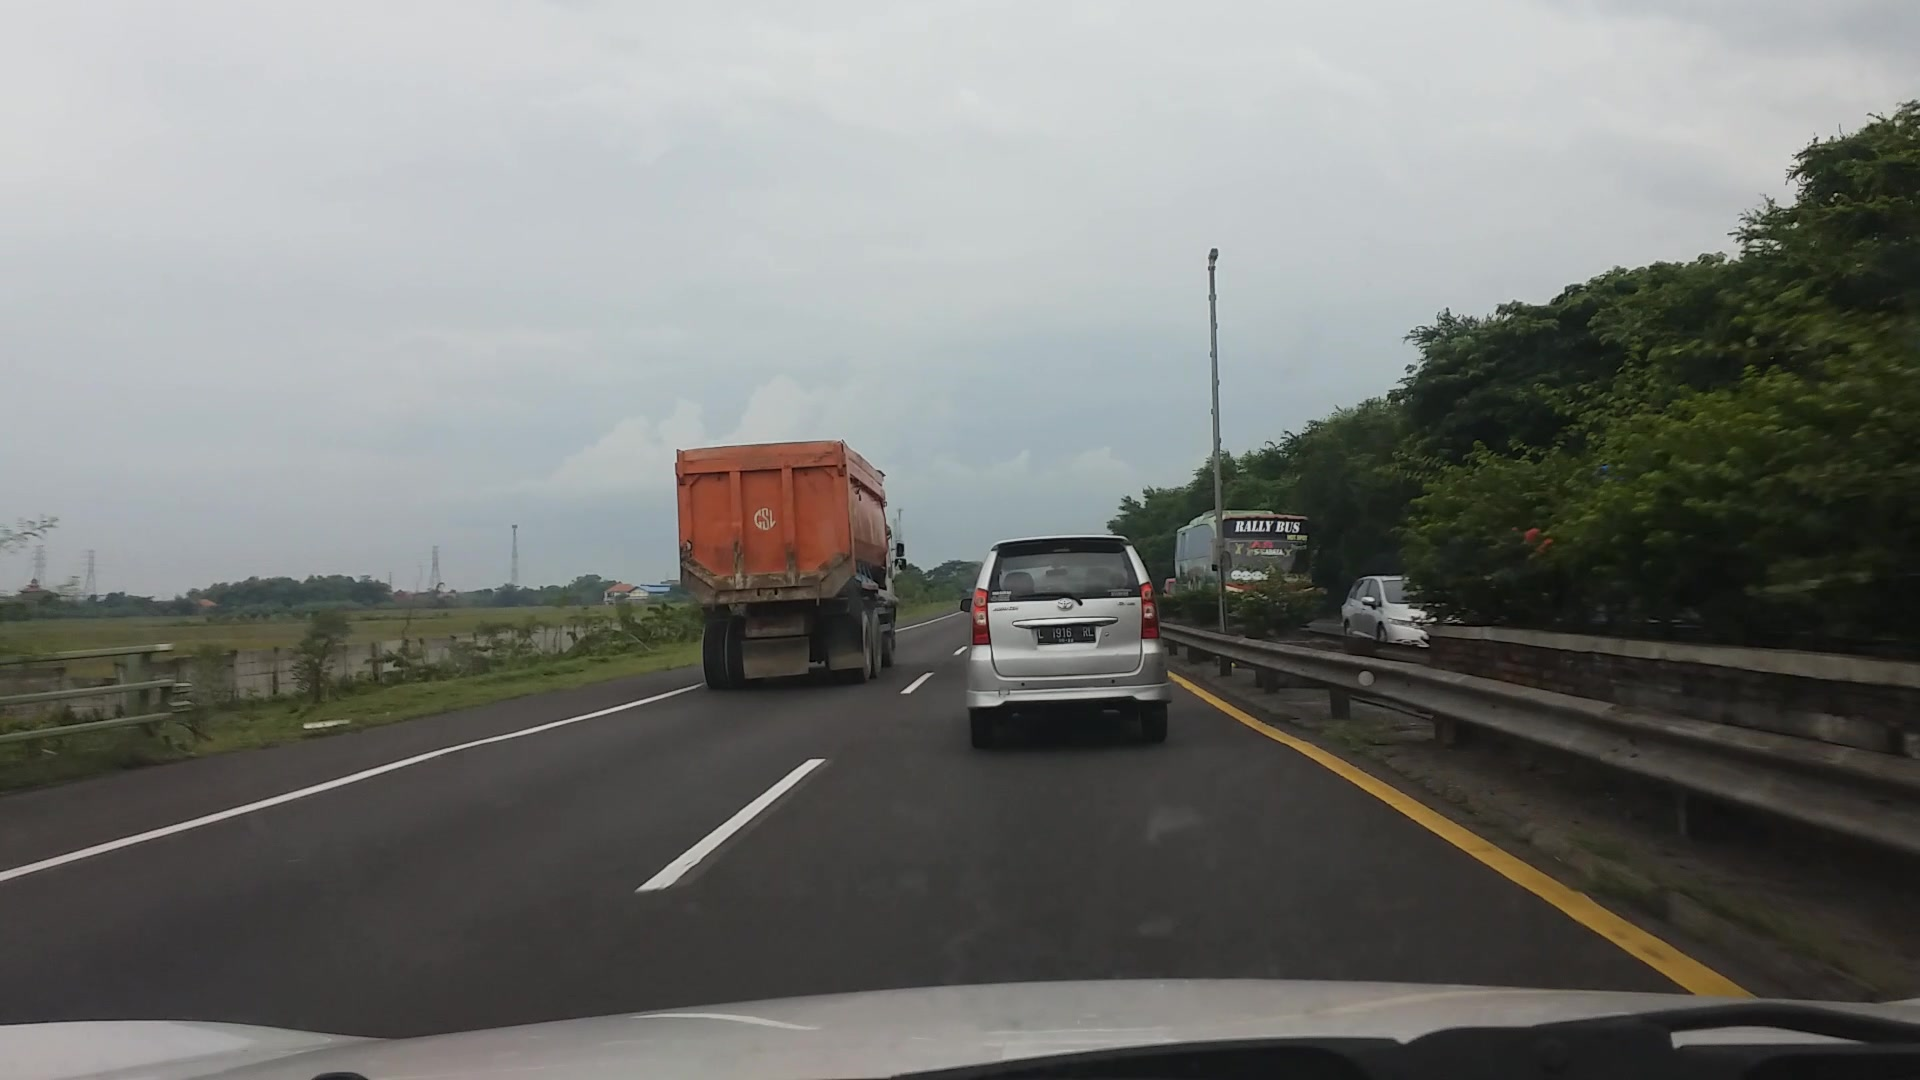plate_positive: (1036, 624, 1095, 644)
